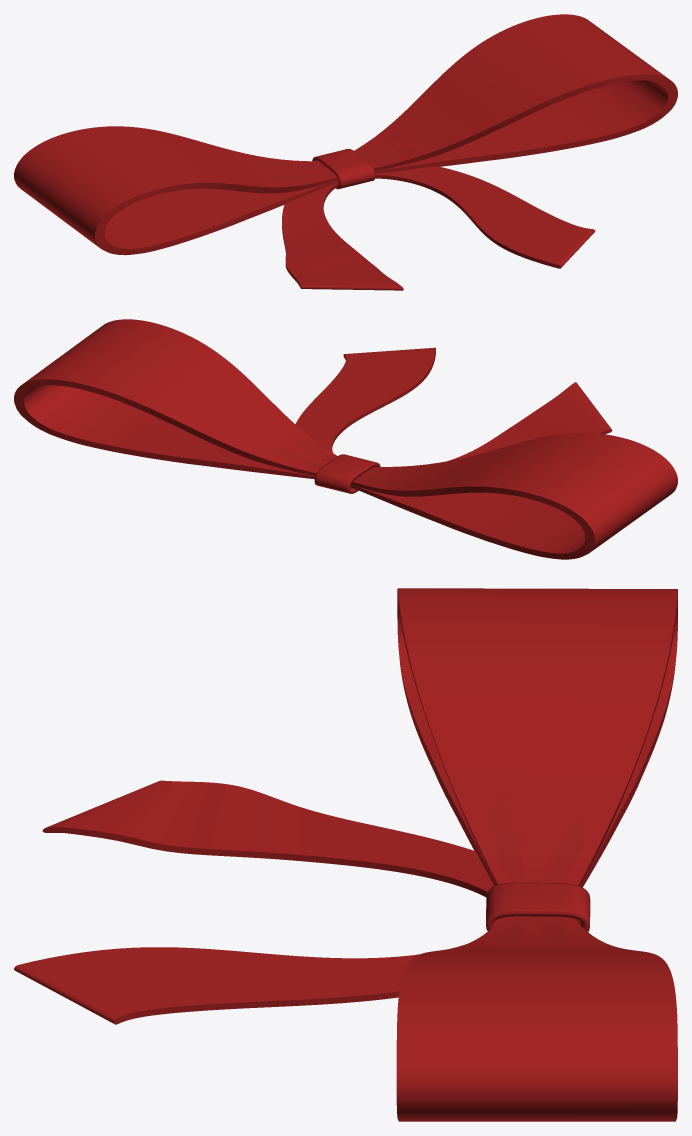
Rendered from Nudo_Cinta00.gltf.
3 renders of one model, top to bottom at view 1: azimuth 30°, elevation 25°; view 2: azimuth 150°, elevation 25°; view 3: azimuth 270°, elevation 25°, orthographic. The views are drawn at different scales.
Visible parts, largest first — view 1: Nudo; view 2: Nudo; view 3: Nudo.
Part boxes in pixels (box(x1,y1,x2,y2)): Nudo: box(14, 14, 677, 290); Nudo: box(14, 319, 677, 559); Nudo: box(14, 588, 677, 1121).
Size of what is drawn, in the model's own units: 2.22 by 0.2661 by 1.28.
Materials: 1 (1 with a texture image).
